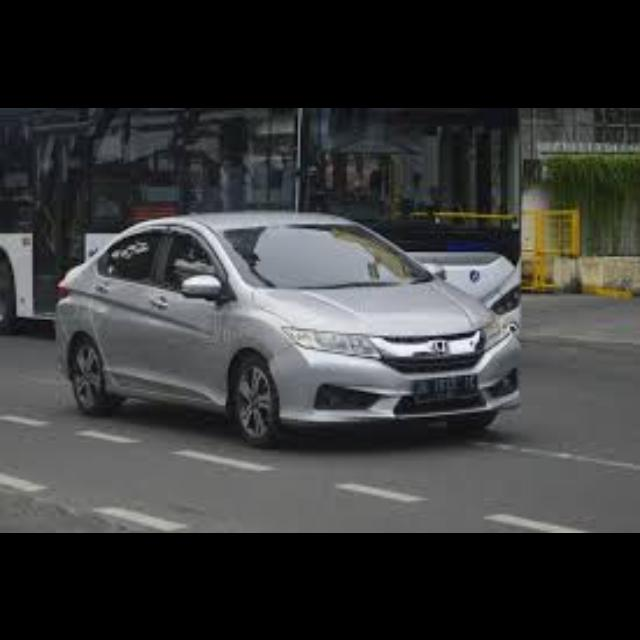vehicles: (35, 195, 533, 449)
